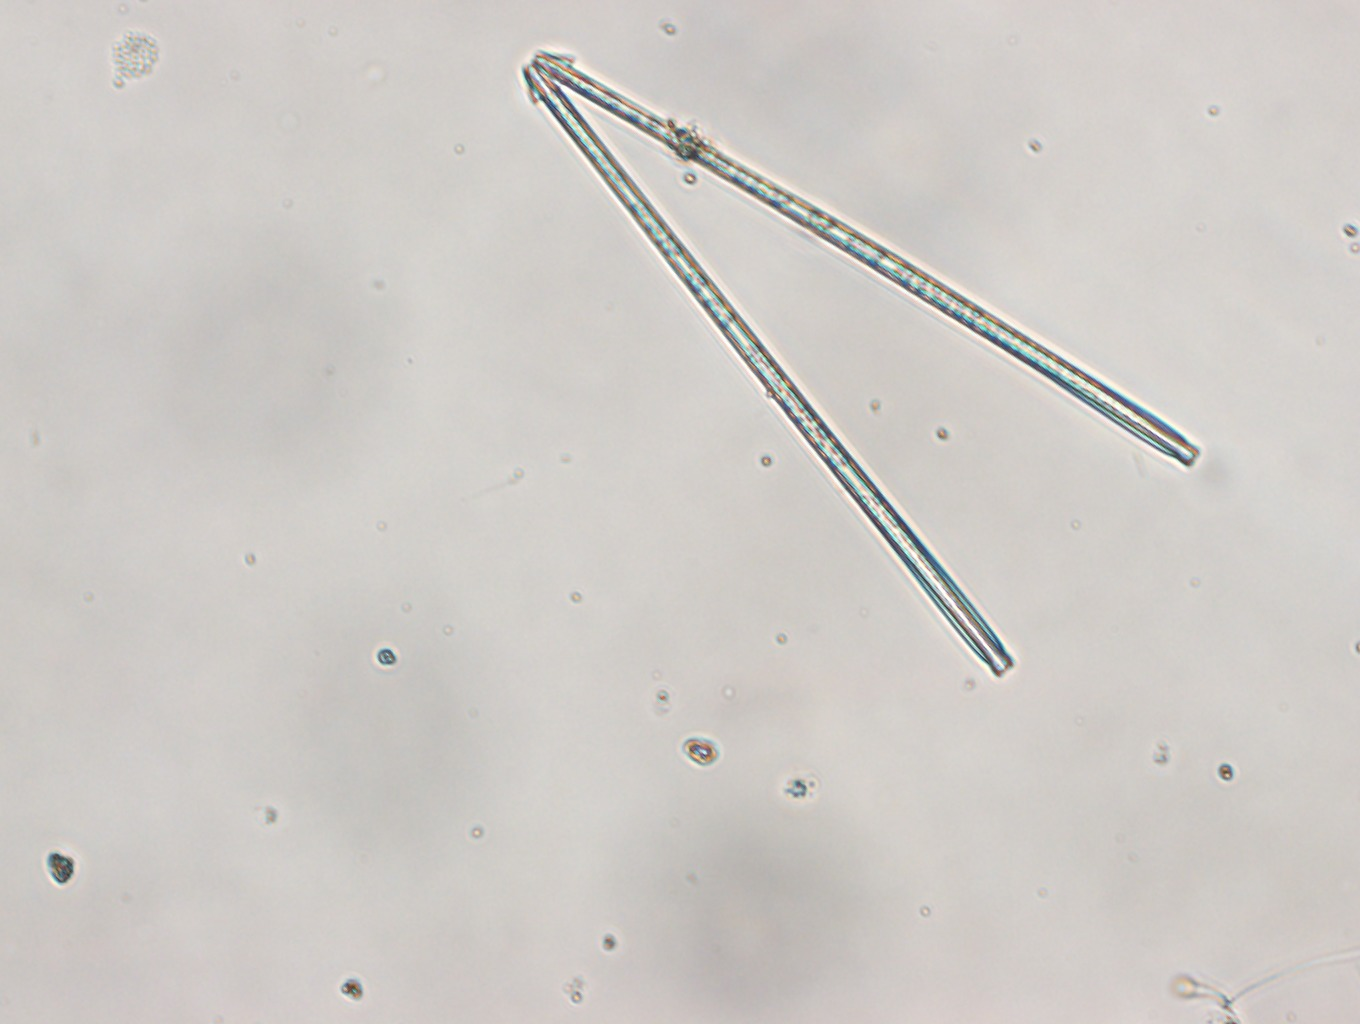thalassionema frauenfeldii: (519, 47, 1205, 682)
